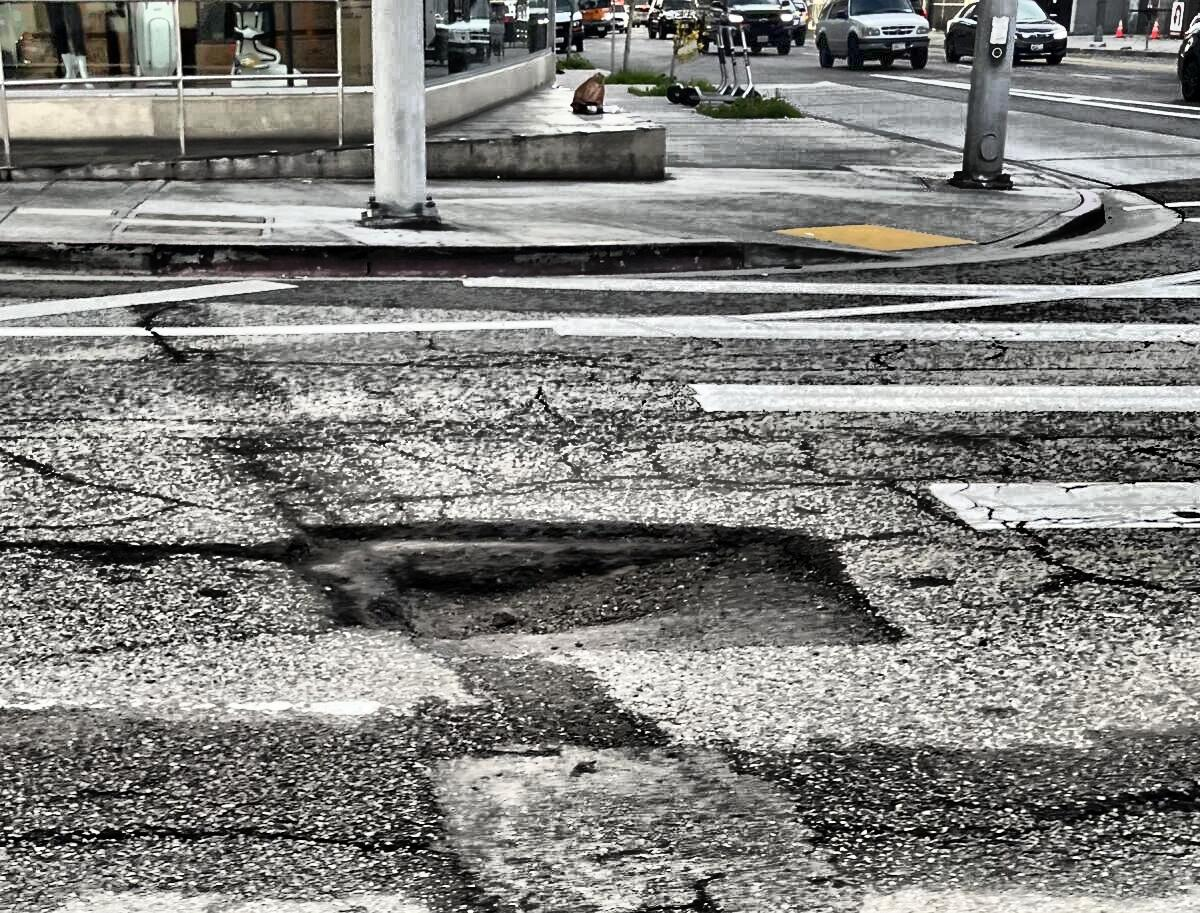pothole: (256, 520, 896, 673)
